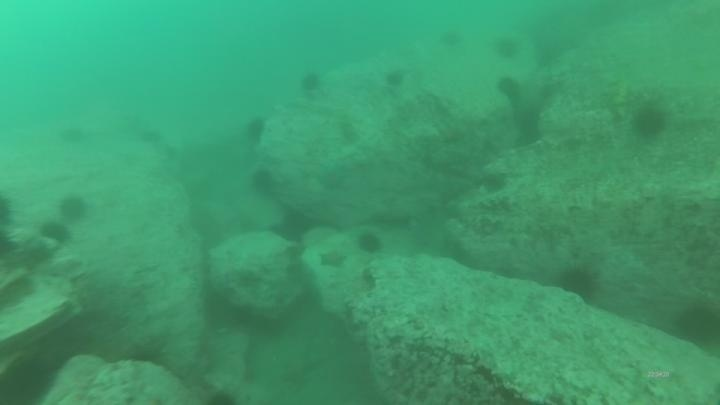echinus: (0, 353, 57, 405), (672, 300, 720, 351), (556, 264, 601, 303), (630, 103, 669, 140), (275, 208, 315, 244), (56, 193, 90, 224), (38, 219, 73, 246), (494, 74, 524, 104), (248, 167, 278, 197), (354, 229, 385, 256), (242, 115, 269, 145), (492, 34, 522, 61), (57, 123, 88, 147), (479, 171, 509, 195), (298, 69, 324, 96), (437, 27, 465, 49), (382, 67, 407, 91)
holothurian: (446, 184, 517, 215)
starfish: (316, 247, 349, 271)
